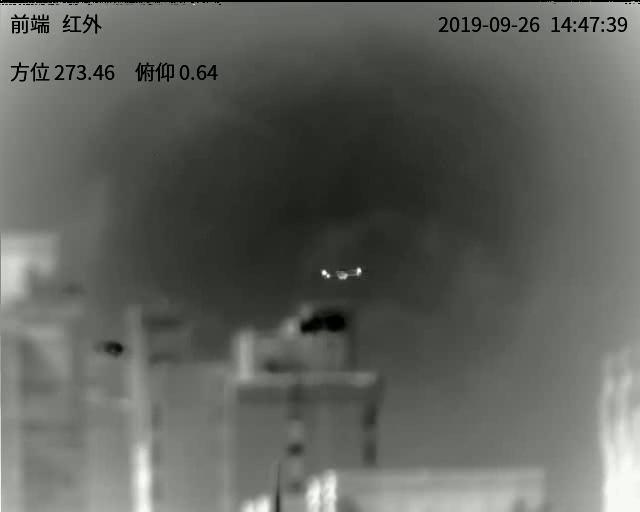DRONE: (319, 266, 364, 281)
